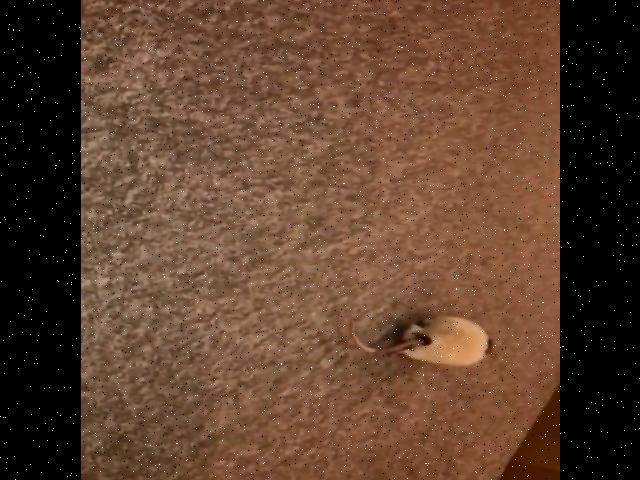Tikus: (345, 311, 503, 369)
